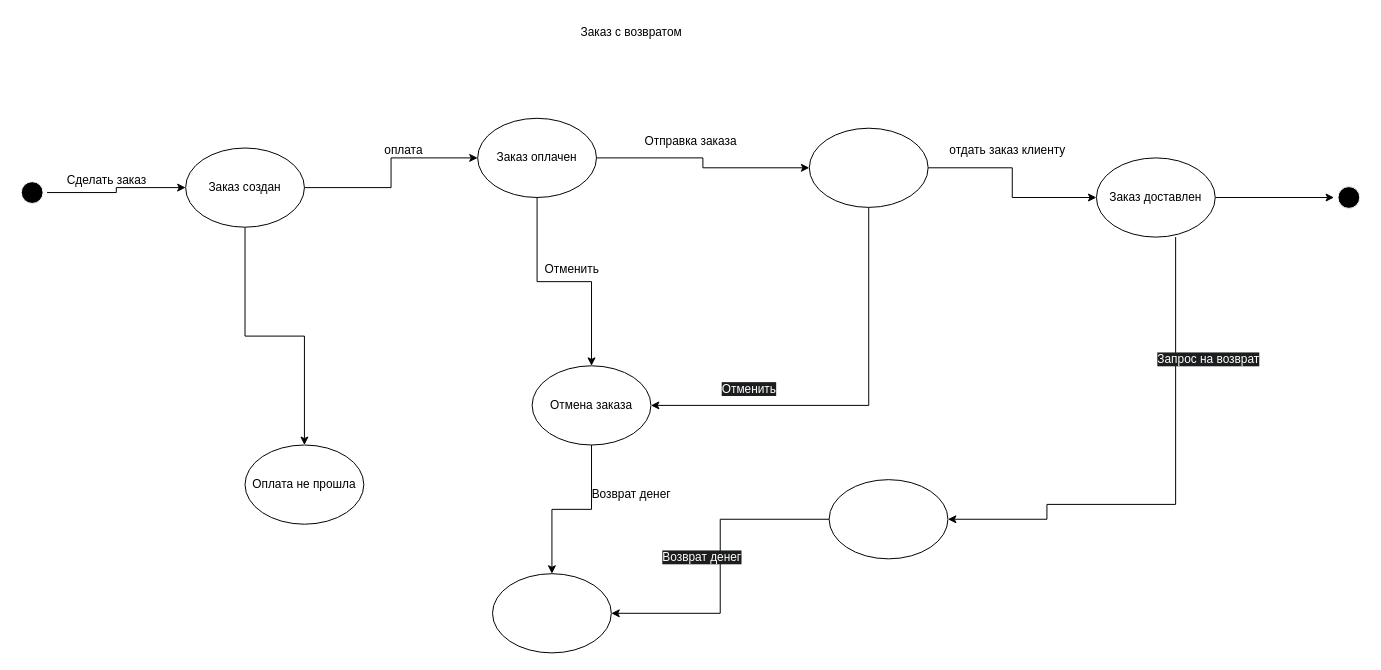
Some shapes in this 1381 by 670 pixel diagram are drawn without their labels. The box of each missing label's shape, as (x1, y1, x2, y2) in pixels:
деньги возвращены: (492, 573, 611, 653)
Заказ отправлен: (808, 127, 928, 207)
товар возвращён: (828, 479, 948, 559)
